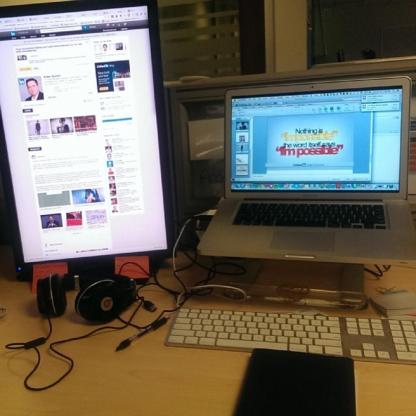board: (188, 73, 401, 287)
